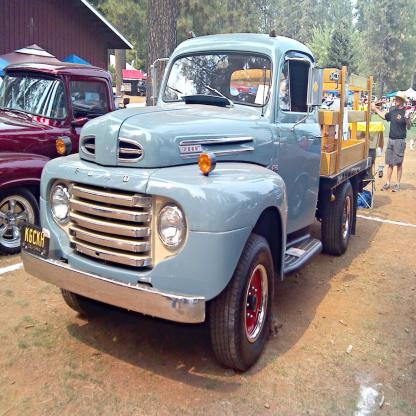Truck: (21, 28, 372, 372), (0, 64, 116, 254)
